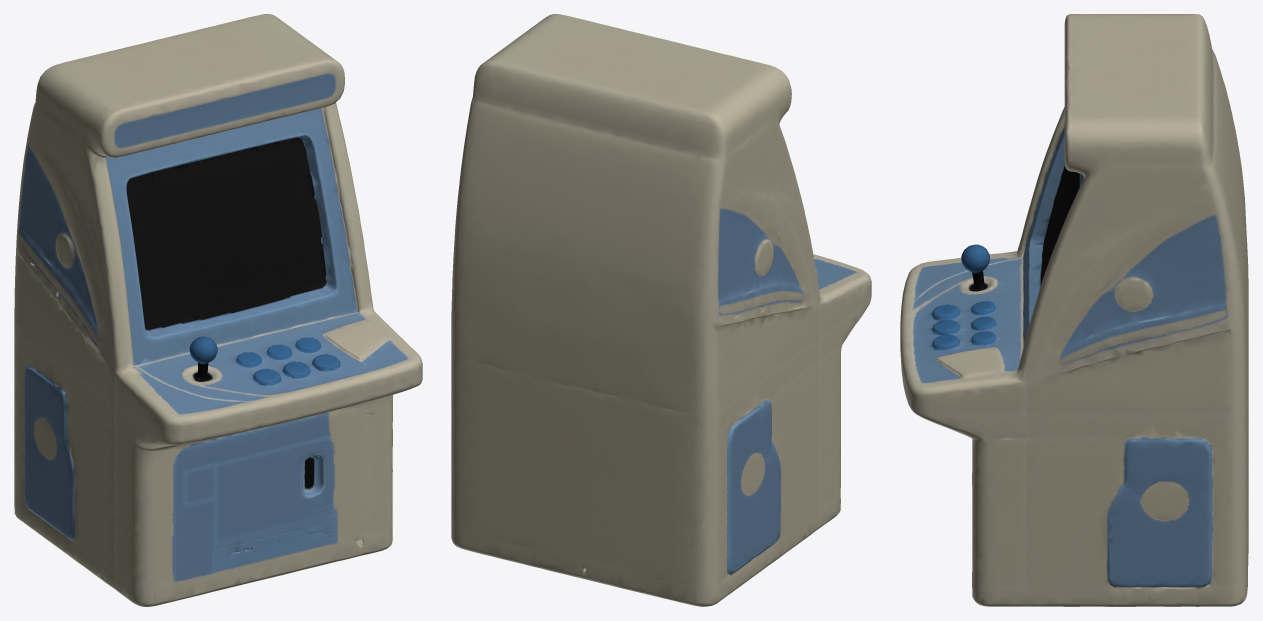
File: 09_arcade_09_candy_cab.glb
The picture shows the model from 3 angles, left to right: view 1: azimuth 30°, elevation 25°; view 2: azimuth 150°, elevation 25°; view 3: azimuth 270°, elevation 25°; orthographic projection. The views are drawn at different scales.
Visible parts, largest first — view 1: world; view 2: world; view 3: world.
Boxes of the visible parts, box(x1,y1,x2,y2) form: world: box(14, 14, 422, 606); world: box(451, 14, 871, 606); world: box(900, 14, 1248, 606).
Size of the model in its own units: 0.5971 by 1 by 0.6648.
1 material, 1 textured.
